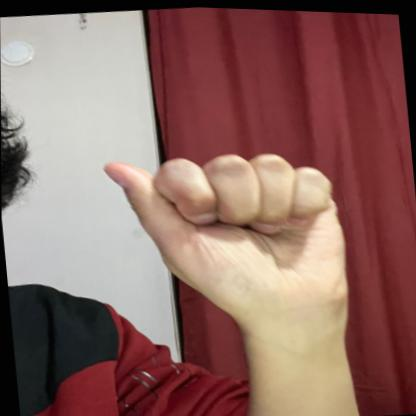A: (92, 135, 361, 320)
